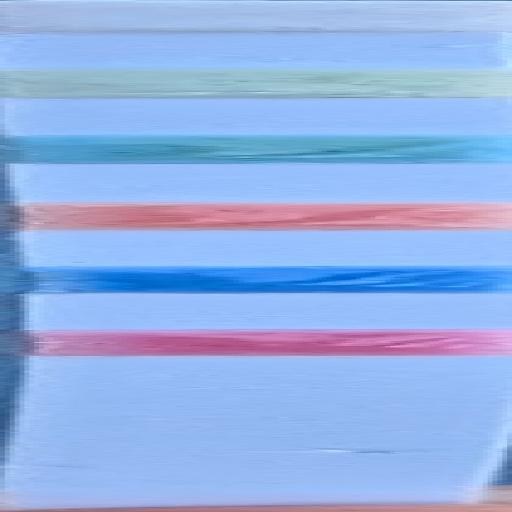pads: (0, 65, 512, 103), (0, 130, 512, 166), (0, 0, 512, 34), (0, 325, 512, 359), (0, 261, 512, 294), (0, 202, 512, 232)
